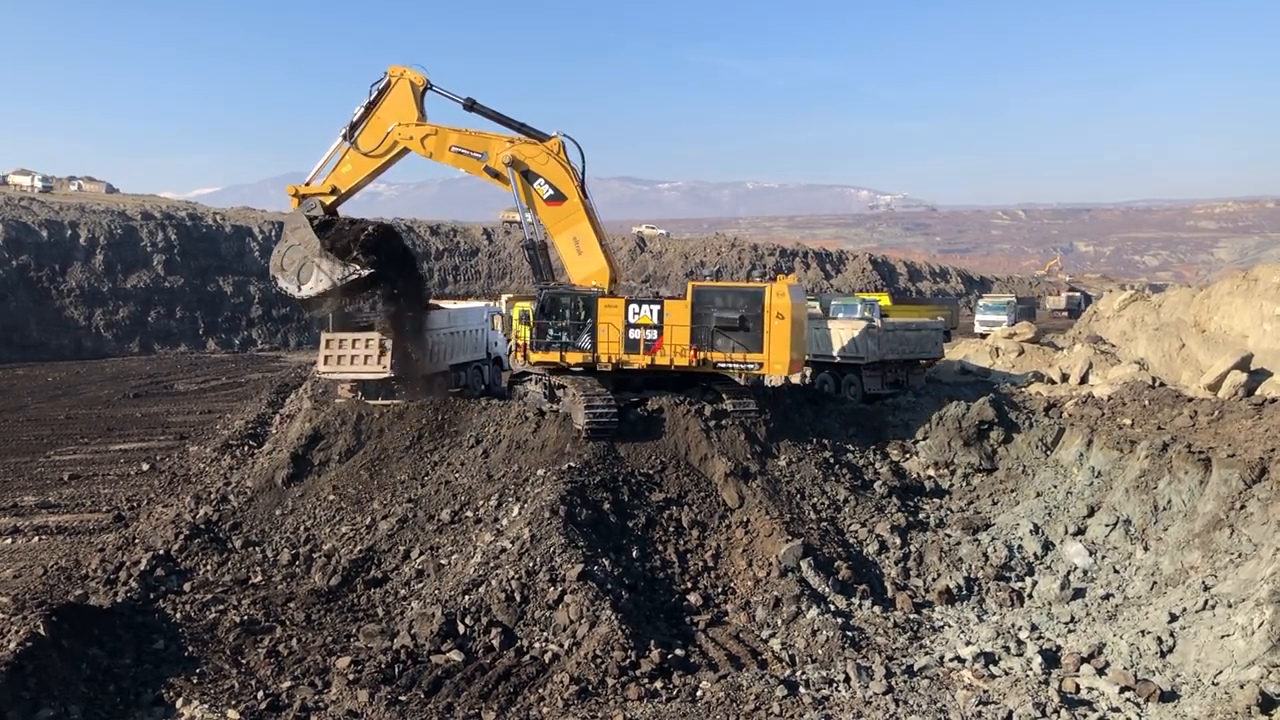full: (259, 203, 389, 305)
